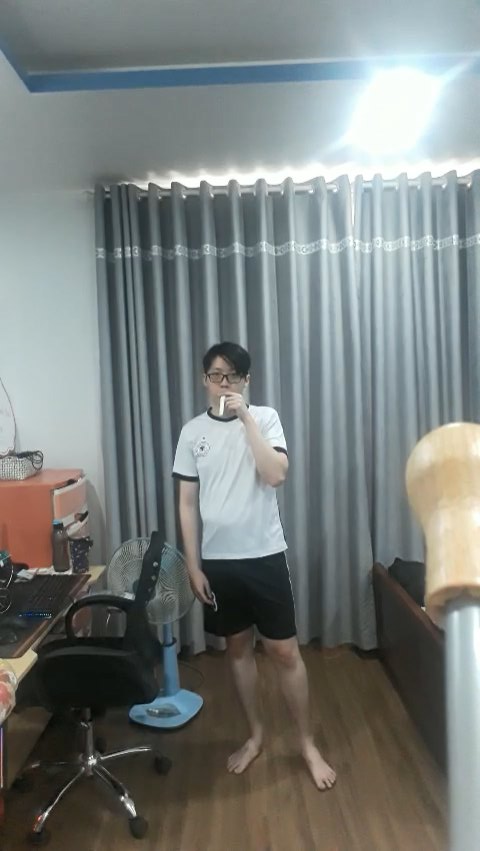cigarette: (216, 396, 227, 419)
person: (161, 334, 351, 803)
